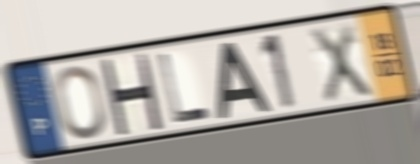1: (259, 30, 298, 113)
A: (215, 39, 274, 122)
H: (97, 53, 165, 137)
L: (155, 50, 213, 126)
O: (52, 63, 109, 142)
X: (306, 20, 375, 106)
